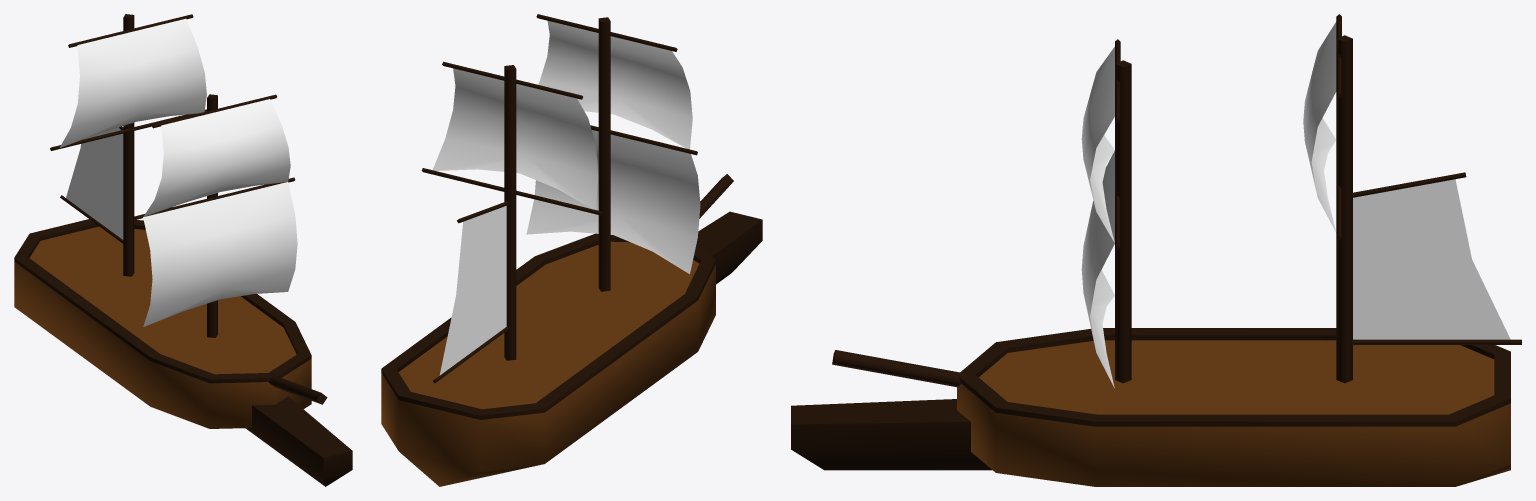
The model's file is brigantine.fbx.
3 views of the same model, side by side, from view 1: azimuth 30°, elevation 25°; view 2: azimuth 150°, elevation 25°; view 3: azimuth 270°, elevation 25° (orthographic). The views are drawn at different scales.
Parts seen in each view (by area): view 1: hull, sailFront, sailRearTop, detail, ram, sailRearBottom; view 2: hull, sailFront, detail, sailRearTop, sailRearBottom, ram; view 3: hull, detail, sailRearBottom, ram, sailFront, sailRearTop.
Part boxes in pixels (box(x1,y1,x2,y2)): hull: box(14, 226, 311, 428); sailFront: box(143, 99, 297, 326); sailRearTop: box(59, 18, 206, 147); detail: box(14, 14, 327, 404); ram: box(245, 396, 352, 486); sailRearBottom: box(60, 126, 123, 243); hull: box(381, 241, 715, 486); sailFront: box(526, 21, 700, 274); detail: box(381, 14, 733, 419); sailRearTop: box(432, 68, 598, 209); sailRearBottom: box(433, 201, 509, 383); ram: box(696, 211, 762, 284); hull: box(957, 340, 1510, 486); detail: box(832, 14, 1510, 426); sailRearBottom: box(1350, 172, 1521, 344); ram: box(791, 399, 992, 470); sailFront: box(1081, 46, 1114, 388); sailRearTop: box(1303, 22, 1336, 232).
Size of the model in its own units: 2.2 by 4.3 by 6.6.
